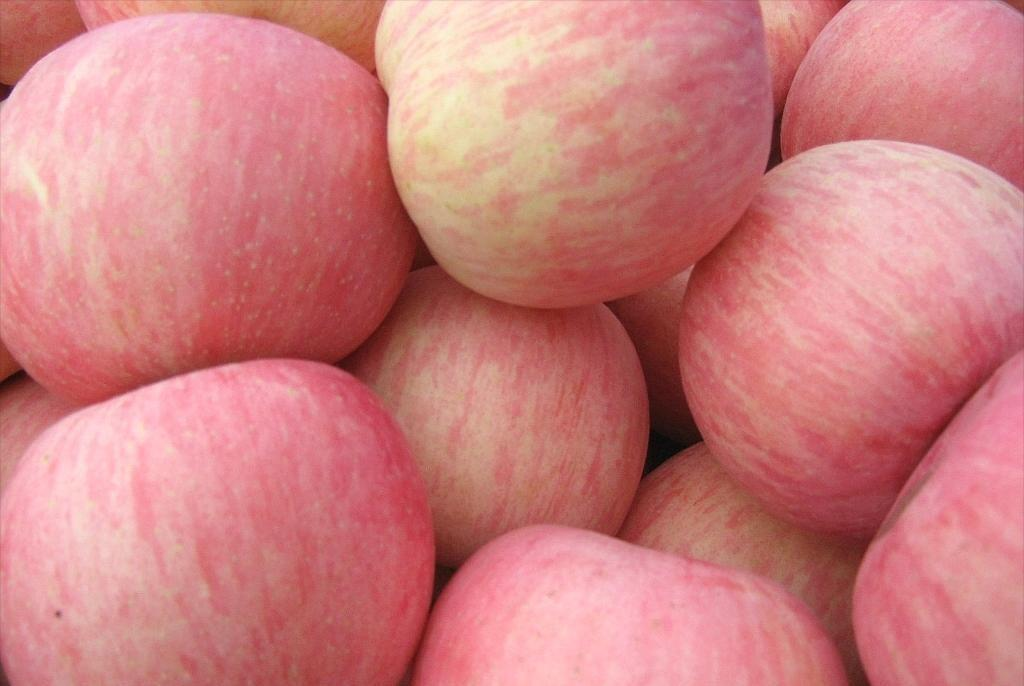apple: (3, 12, 413, 402), (3, 354, 445, 679), (678, 139, 1022, 531), (375, 3, 772, 308), (371, 261, 646, 564), (405, 520, 838, 679), (778, 1, 1023, 190)
